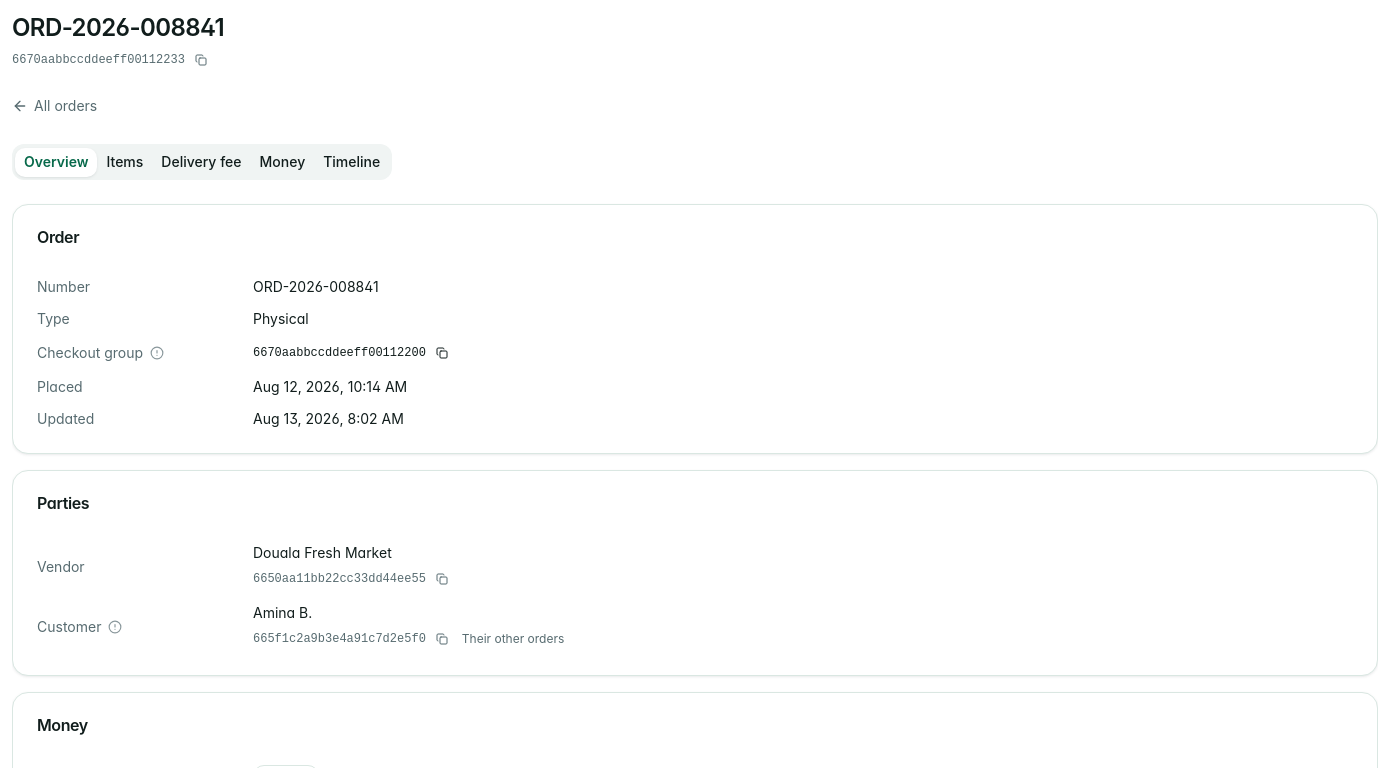
Test: tabs and permissions › offers the Money tab on money.splits.read, and reads the split only when opened
This screenshot has width=1378, height=768.
Click the tab "Money".
click(282, 162)  # box [250,148,314,176]
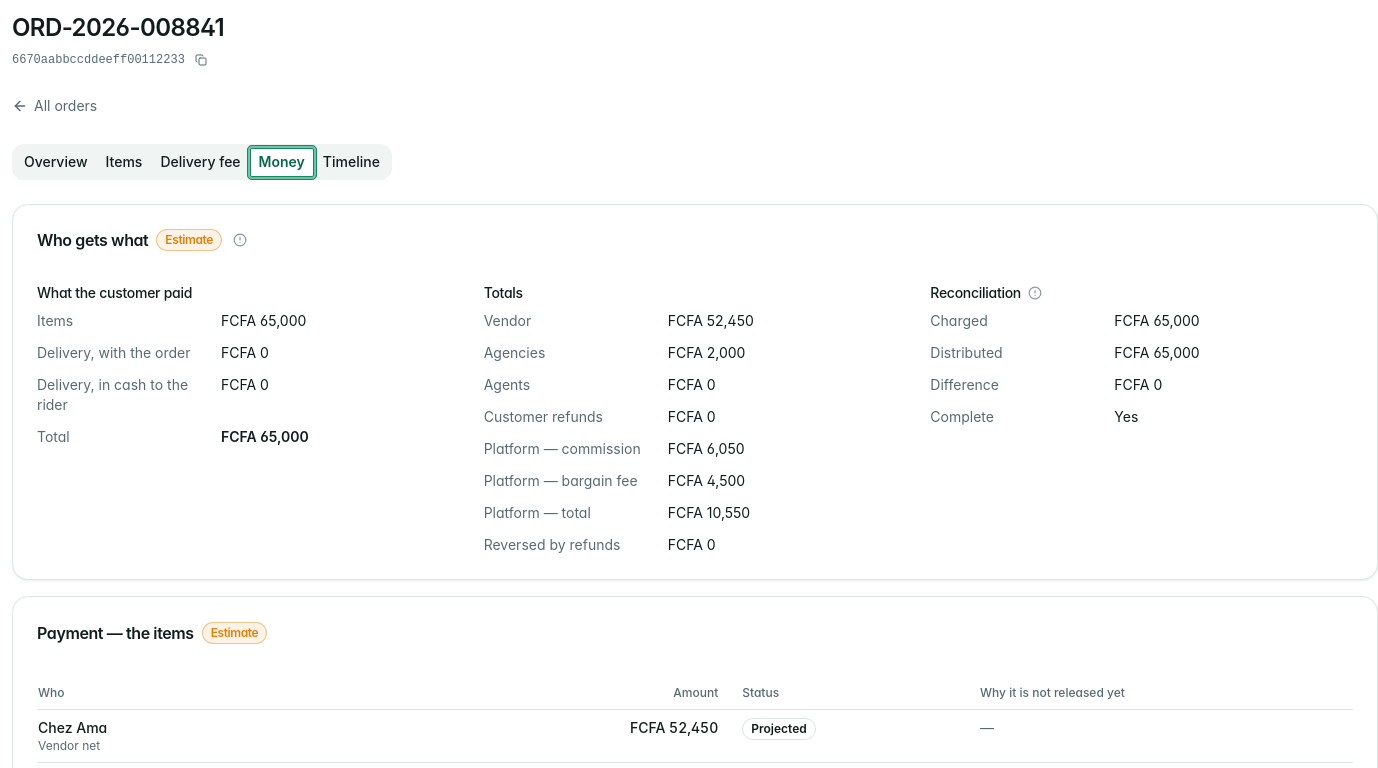
Expected: the text "Who gets what" is shown, [37,230,148,250]
